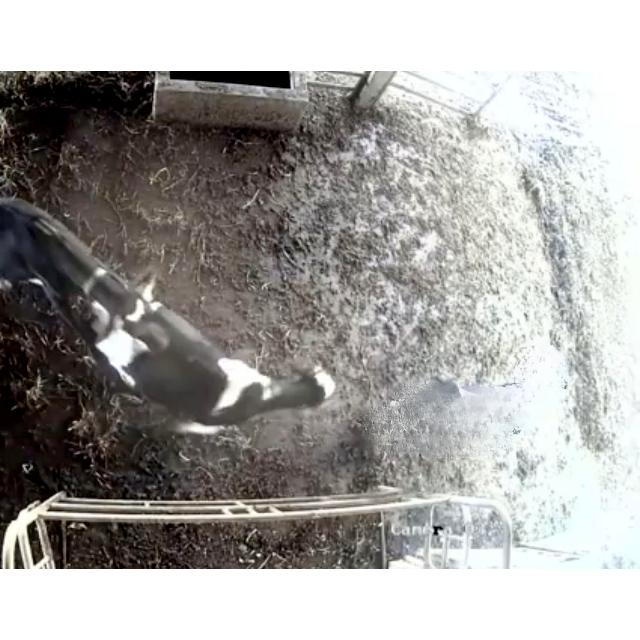ride: (0, 190, 170, 385)
